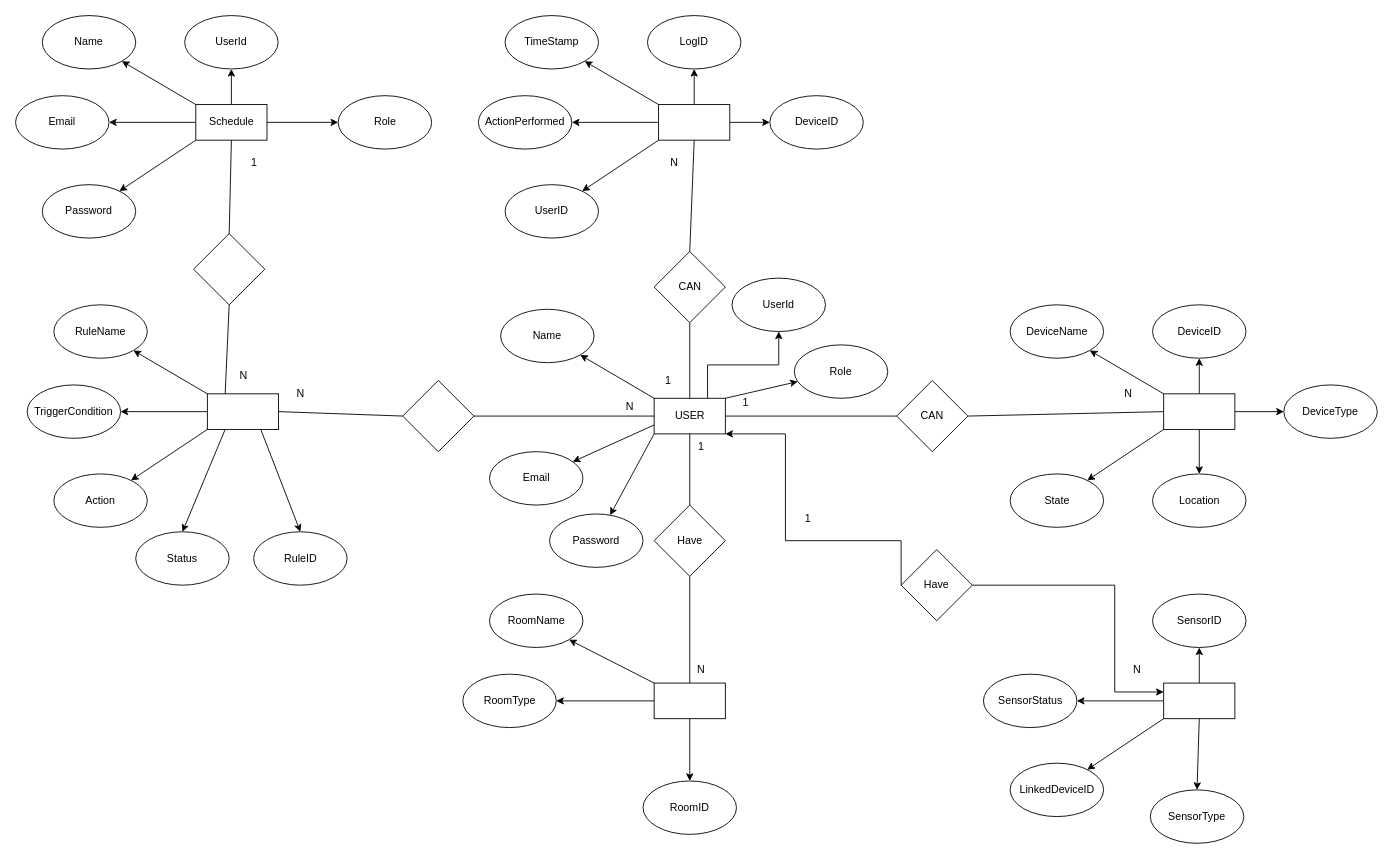
This 1393x859 diagram has some shape labels left out. The box of each missing label's shape, as (x1, y1, x2, y2) in pixels:
Automation Rule: (206, 393, 279, 429)
Device: (1163, 393, 1235, 429)
Linked: (193, 233, 265, 305)
Log: (658, 104, 730, 140)
Multiple: (402, 380, 474, 452)
Room: (653, 682, 725, 719)
Sensor: (1163, 682, 1235, 719)
